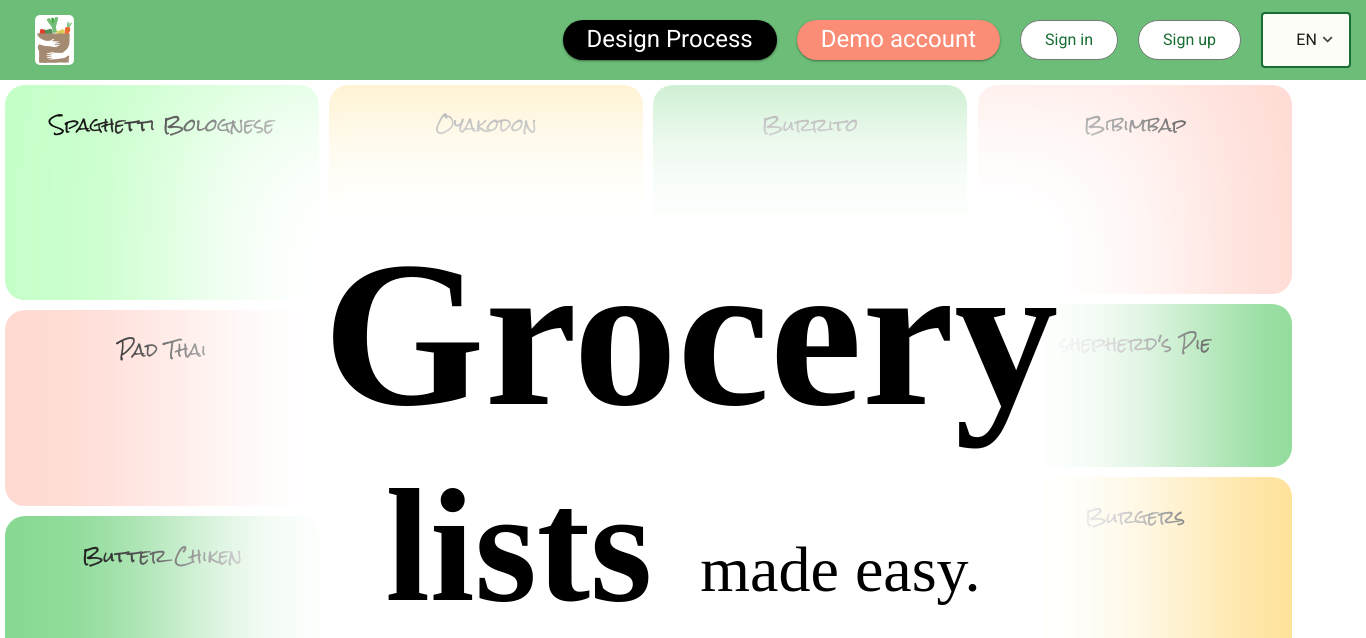
Test: navigates from homepage to signin page
Jest will find multiple buttons with the text "Sign in"
Click the button "Sign in" at (1069, 40), box [1020, 20, 1118, 60]
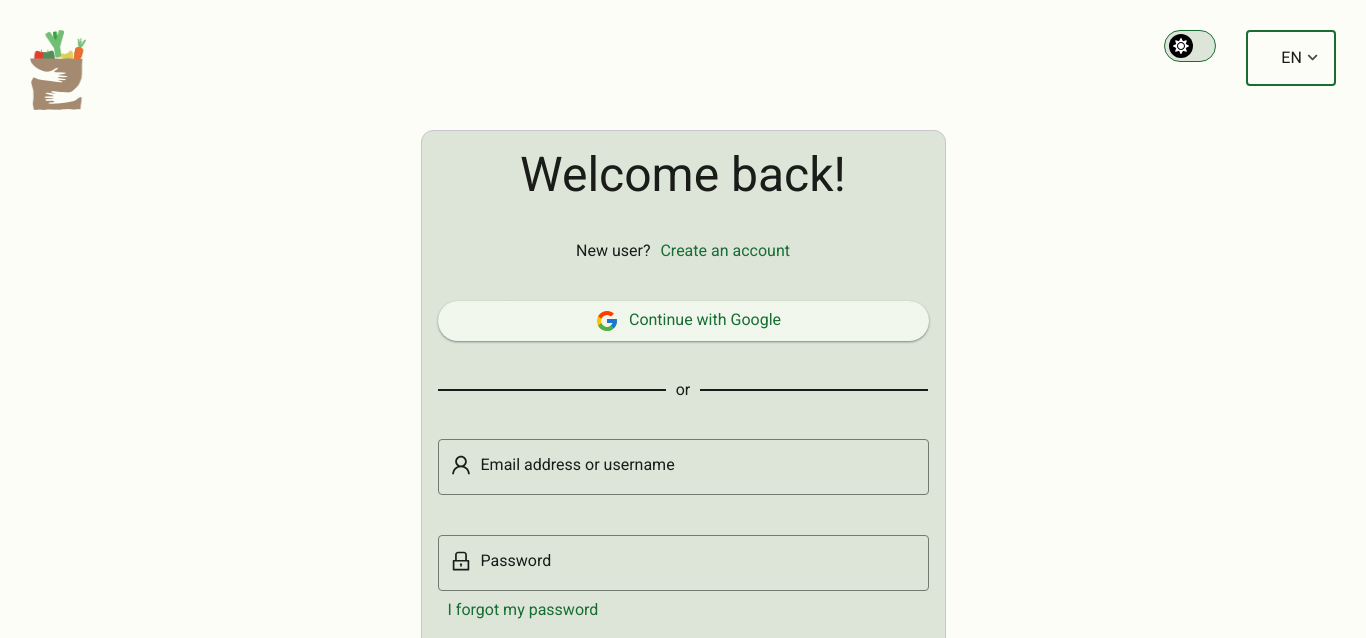
Now the text "New user?" is shown, box [576, 242, 650, 261]
